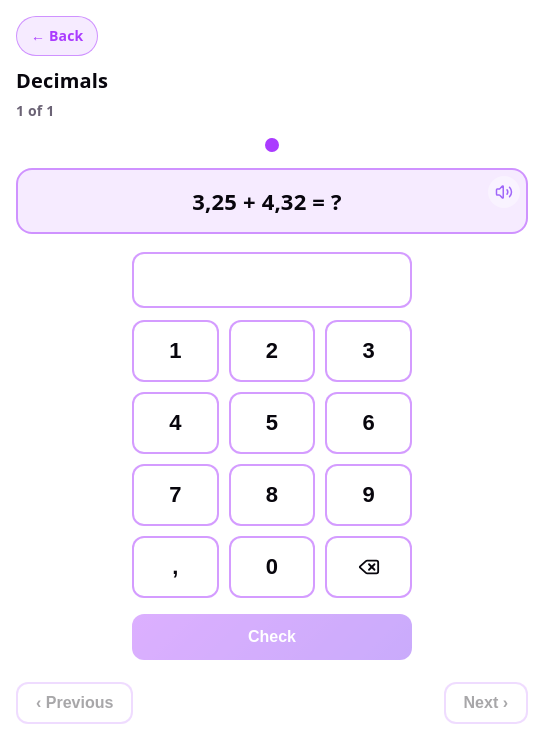
Test: BundlePlayer — decimal entry › posts the typed decimal string (with comma) and completes when correct
This screenshot has width=545, height=741.
Check: the text "3,25 + 4,32 = ?" is shown, box [192,188,342,214]
Click the button "7": x=175, y=495 [132,464,219,526]
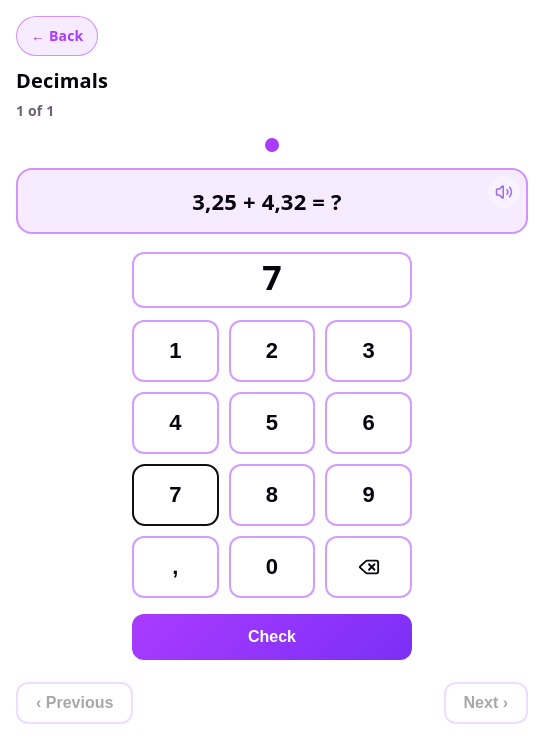
Click the button ",": x=175, y=567 [132,536,219,598]
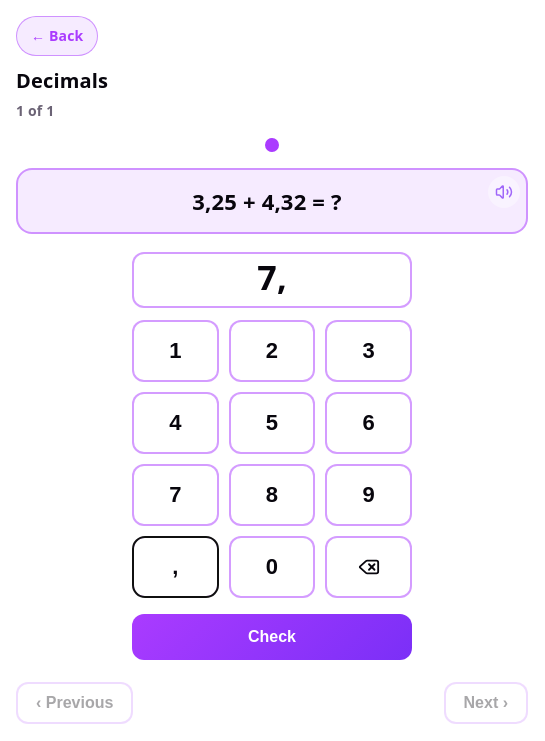
Click the button "5": x=272, y=423 [229,392,315,454]
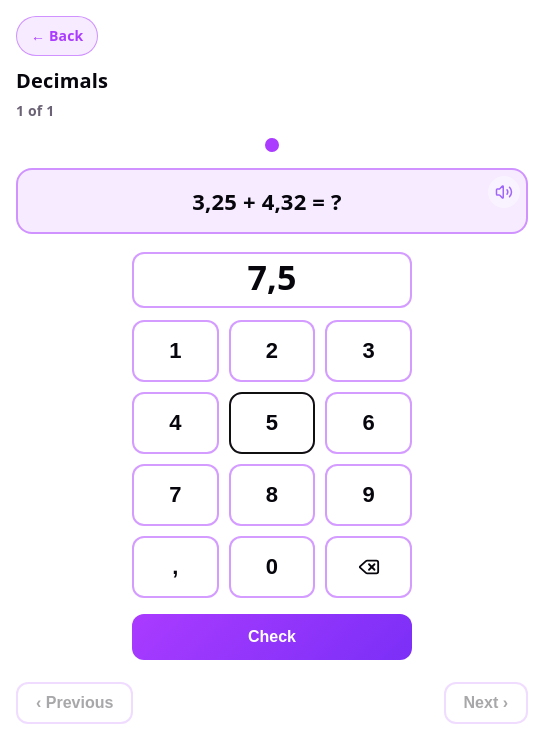
Click the button "7": x=175, y=495 [132,464,219,526]
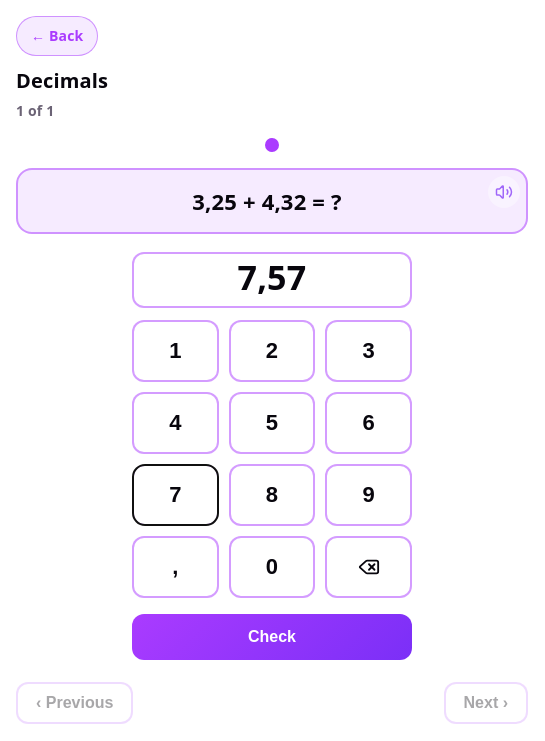
Click the button "Check": x=272, y=637 [132,614,412,660]
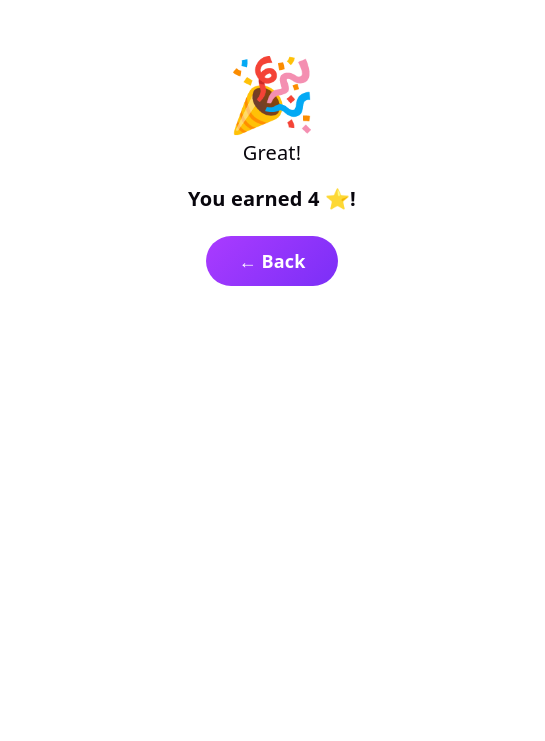
Check: the heading "Great!" is shown, box [243,139,301,166]
Check: the text "You earned 4 ⭐!" is shown, box [188,185,356,212]
